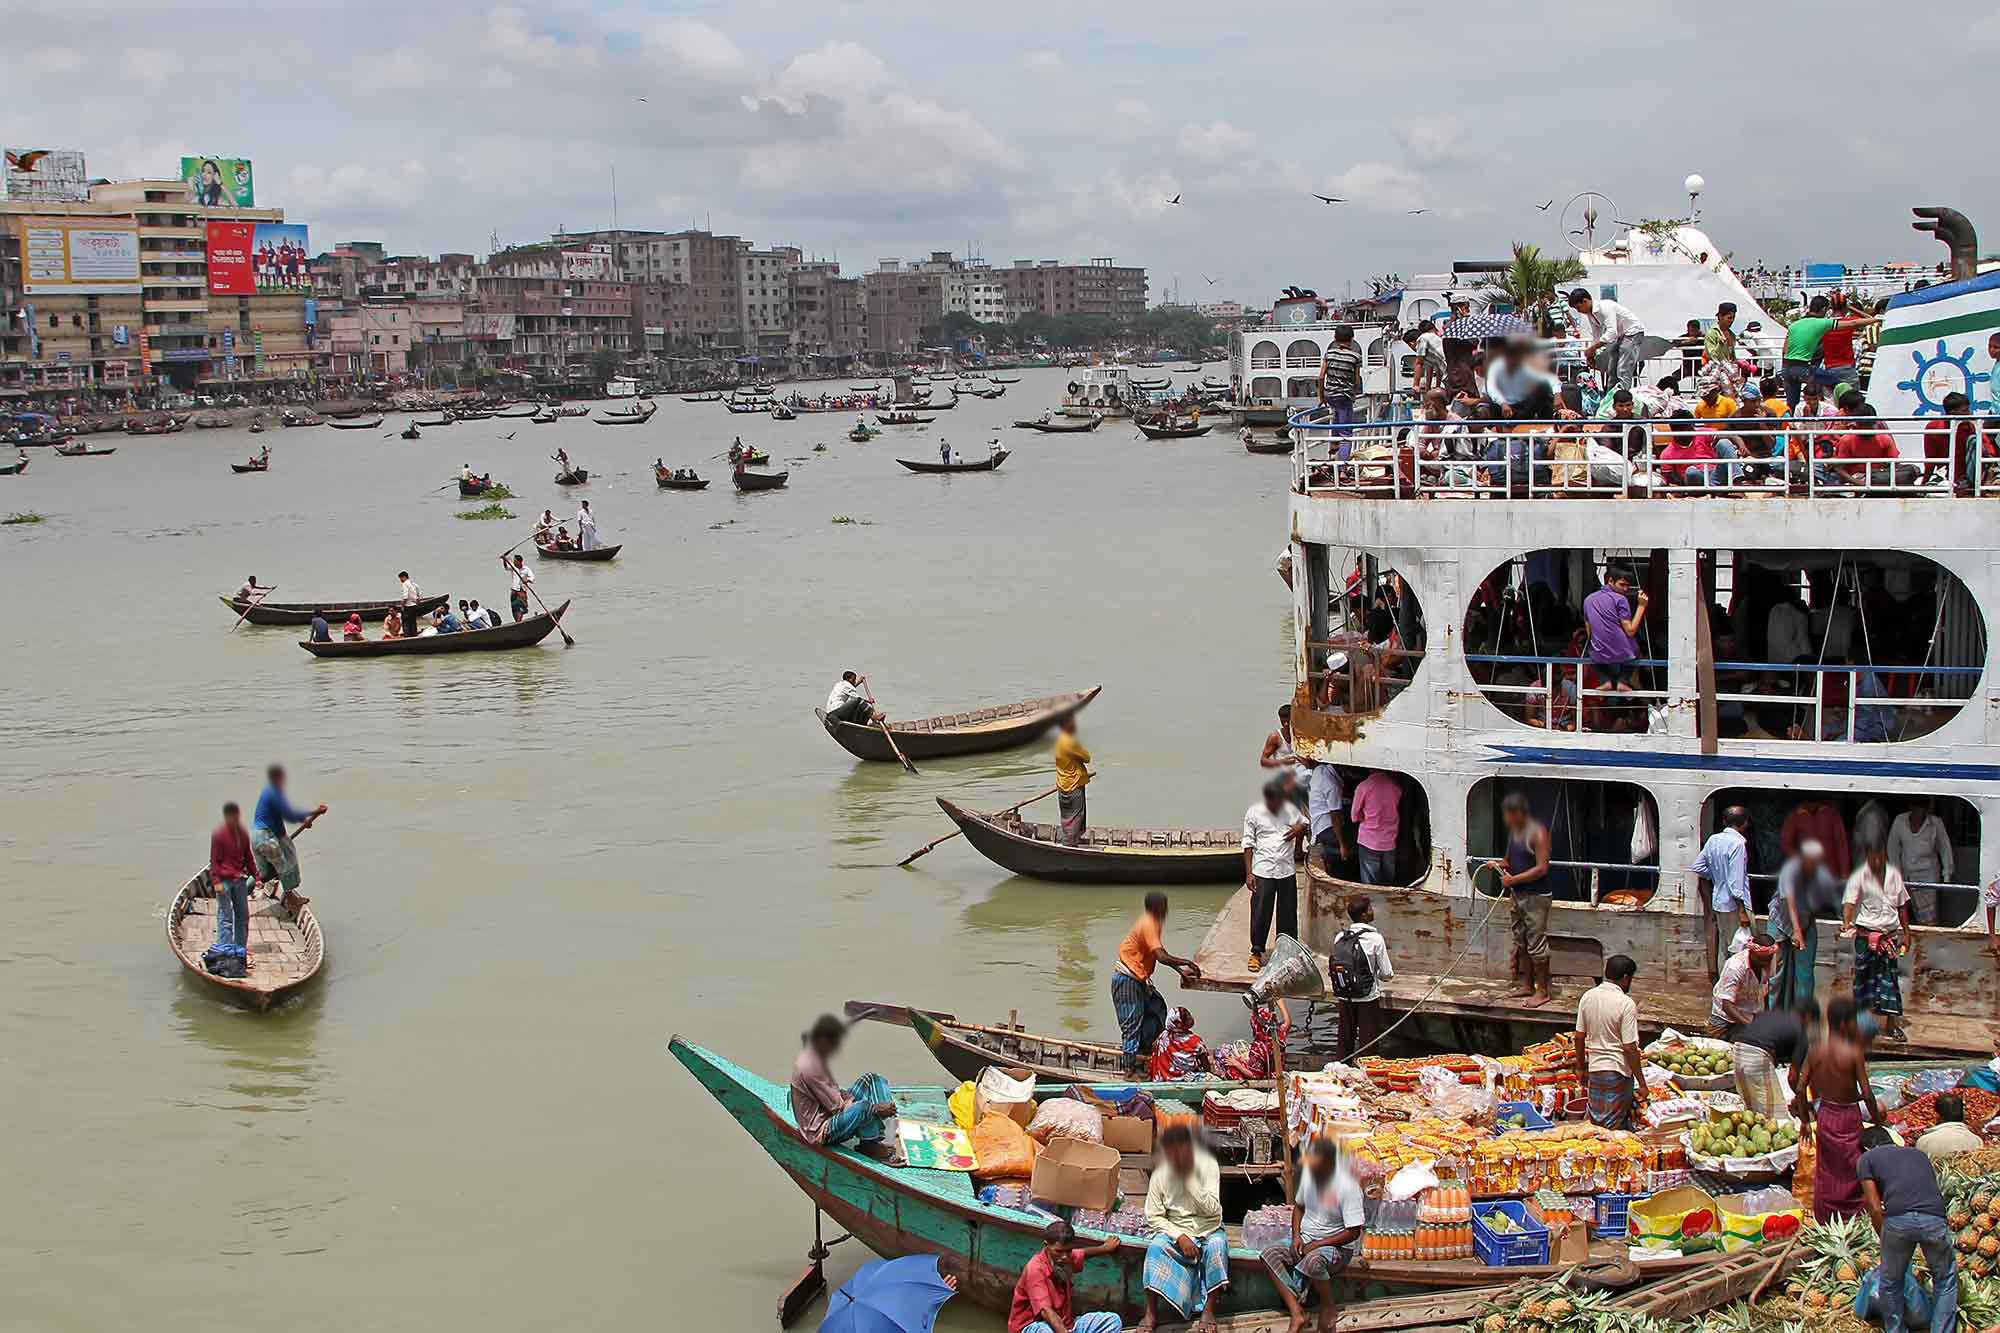boat: (665, 1030, 2000, 1320), (834, 995, 1356, 1088), (164, 844, 330, 1018), (934, 791, 1248, 884), (815, 681, 1100, 769), (297, 595, 571, 661), (217, 595, 459, 628), (532, 519, 623, 565), (897, 452, 1010, 482), (452, 472, 513, 504), (1016, 417, 1109, 436), (659, 463, 709, 497), (738, 466, 791, 495), (590, 406, 656, 430), (1248, 428, 1300, 457), (1135, 421, 1210, 440), (876, 411, 938, 428), (729, 445, 769, 469), (228, 458, 274, 478), (62, 443, 106, 460)
launch: (1178, 182, 1997, 1065), (1221, 309, 1381, 415)
